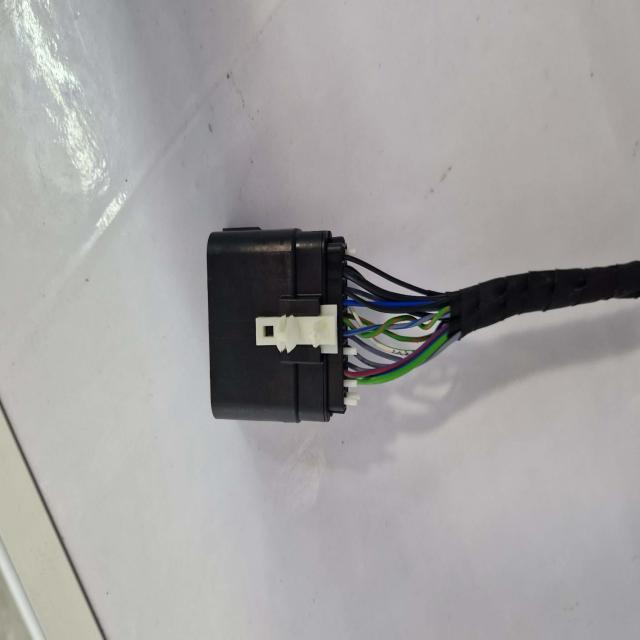Connector: (208, 228, 347, 421)
Gape: (343, 256, 451, 390)
MHEV_N11_Cable: (449, 264, 640, 338)
